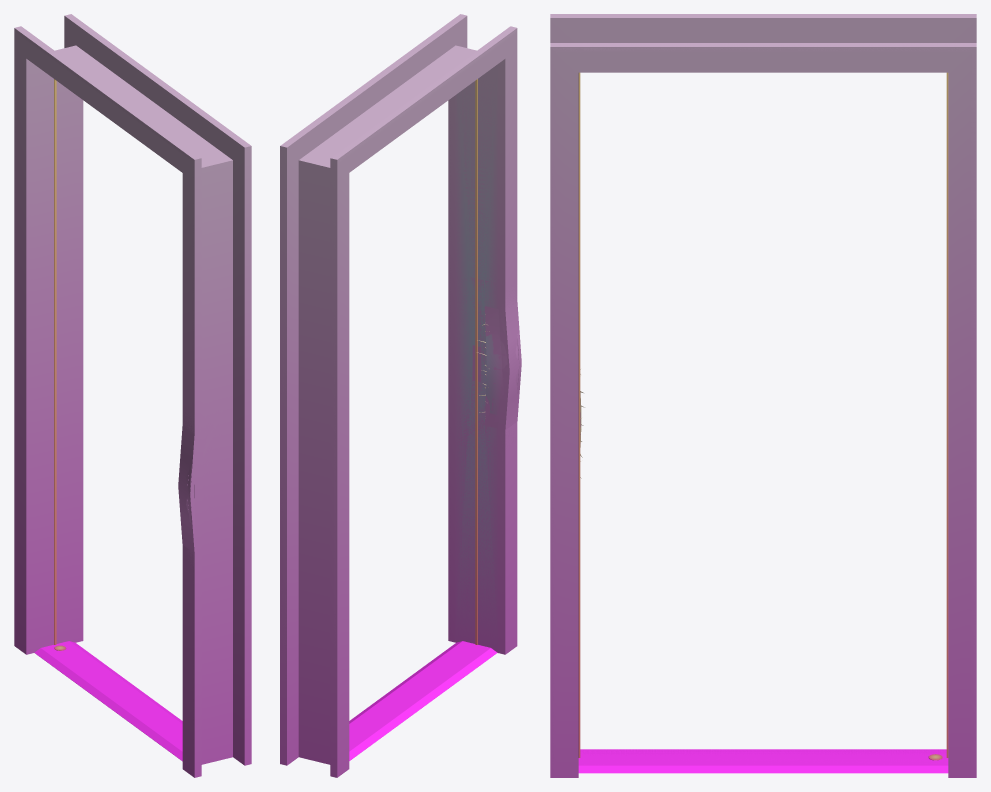
File: Kit_DoorFrameBreak_Wood_DA.fbx
The picture shows the model from 3 angles, left to right: view 1: azimuth 30°, elevation 25°; view 2: azimuth 150°, elevation 25°; view 3: azimuth 270°, elevation 25°; orthographic projection. The views are drawn at different scales.
Visible parts, largest first — view 1: body_L0, body_L2, ins_INTACT_L0, body_L1, ins_INTACT_L1, ins_SPLIT_L1, ins_INTACT_L2, ins_SPLIT_L2, ins_SPLIT_L0; view 2: body_L0, body_L2, body_L1, ins_INTACT_L0, ins_SPLIT_L2, ins_SPLIT_L0, ins_SPLIT_L1, ins_INTACT_L2, ins_INTACT_L1; view 3: body_L2, body_L0, ins_INTACT_L2, ins_INTACT_L0.
Part boxes in pixels (x1,y1,x2,y2): body_L0: [15, 14, 250, 775]; body_L2: [14, 14, 251, 777]; ins_INTACT_L0: [192, 388, 250, 578]; body_L1: [54, 558, 232, 762]; ins_INTACT_L1: [201, 396, 232, 565]; ins_SPLIT_L1: [186, 393, 232, 559]; ins_INTACT_L2: [182, 394, 251, 578]; ins_SPLIT_L2: [178, 392, 229, 577]; ins_SPLIT_L0: [186, 388, 232, 577]; body_L0: [281, 14, 516, 777]; body_L2: [280, 14, 517, 777]; body_L1: [455, 65, 498, 650]; ins_INTACT_L0: [450, 272, 516, 455]; ins_SPLIT_L2: [457, 279, 521, 454]; ins_SPLIT_L0: [469, 278, 521, 453]; ins_SPLIT_L1: [455, 274, 521, 453]; ins_INTACT_L2: [448, 271, 517, 455]; ins_INTACT_L1: [455, 273, 498, 453]; body_L2: [550, 14, 976, 777]; body_L0: [550, 14, 976, 777]; ins_INTACT_L2: [550, 341, 578, 542]; ins_INTACT_L0: [551, 325, 580, 542].
Size of the model in its own units: 0.226 by 2.17 by 1.15.
